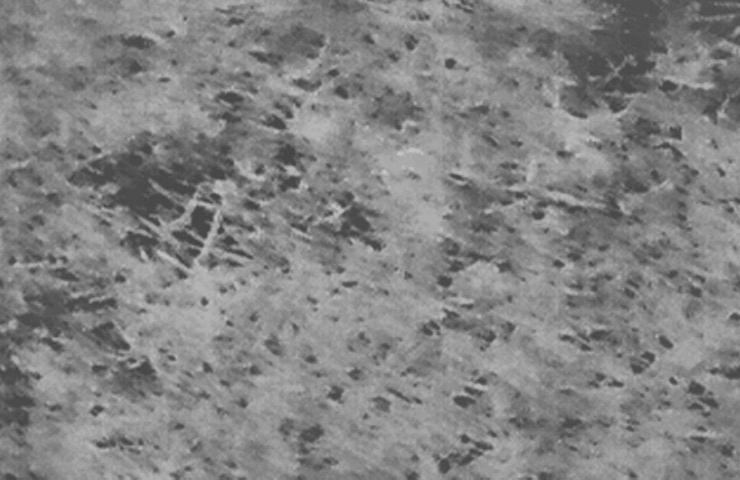landmines: (377, 142, 448, 206)
